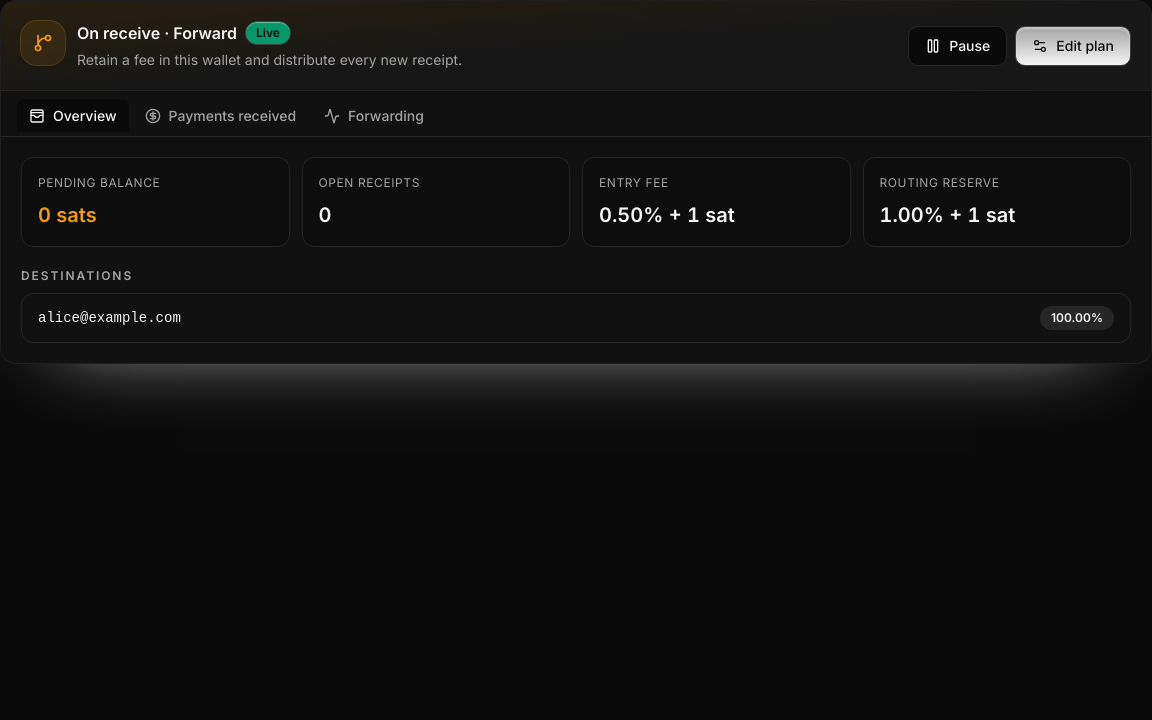
Scenario: RemoteWalletForwardingPanel › shows decoded zap request and receipt JSON in receipt tabs
Click the tab "Payments received": (220,116) [132, 99, 308, 132]
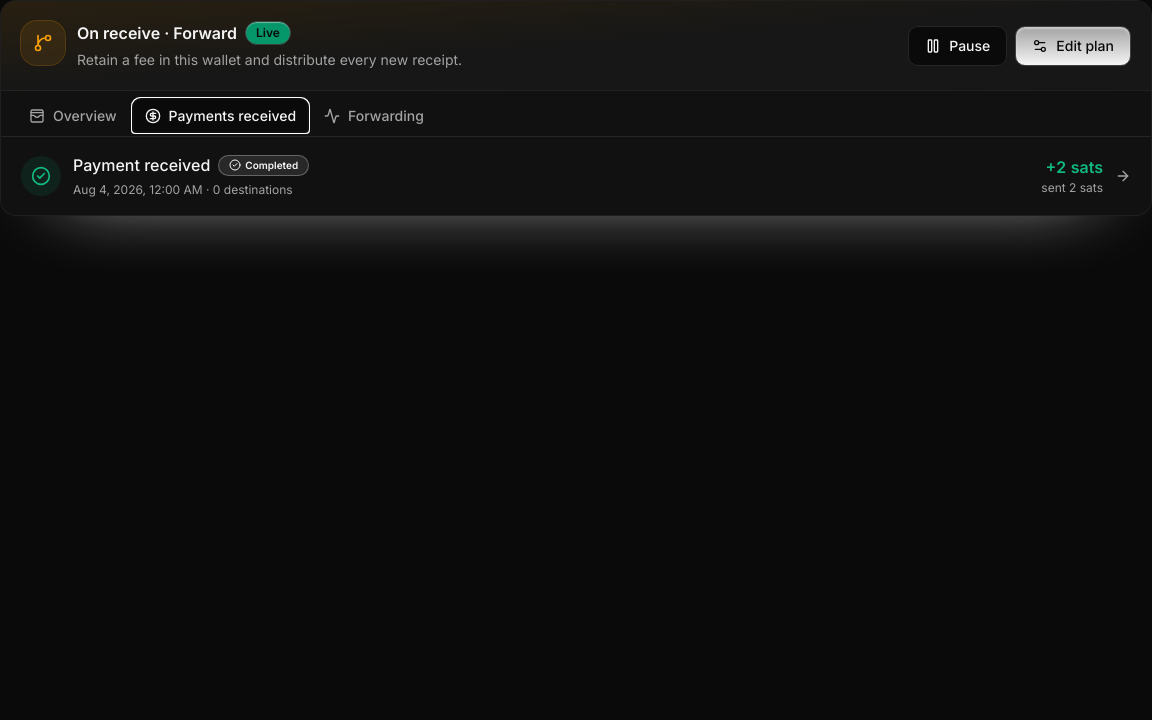
Click the text "Payment received": (142,165) [73, 153, 210, 177]
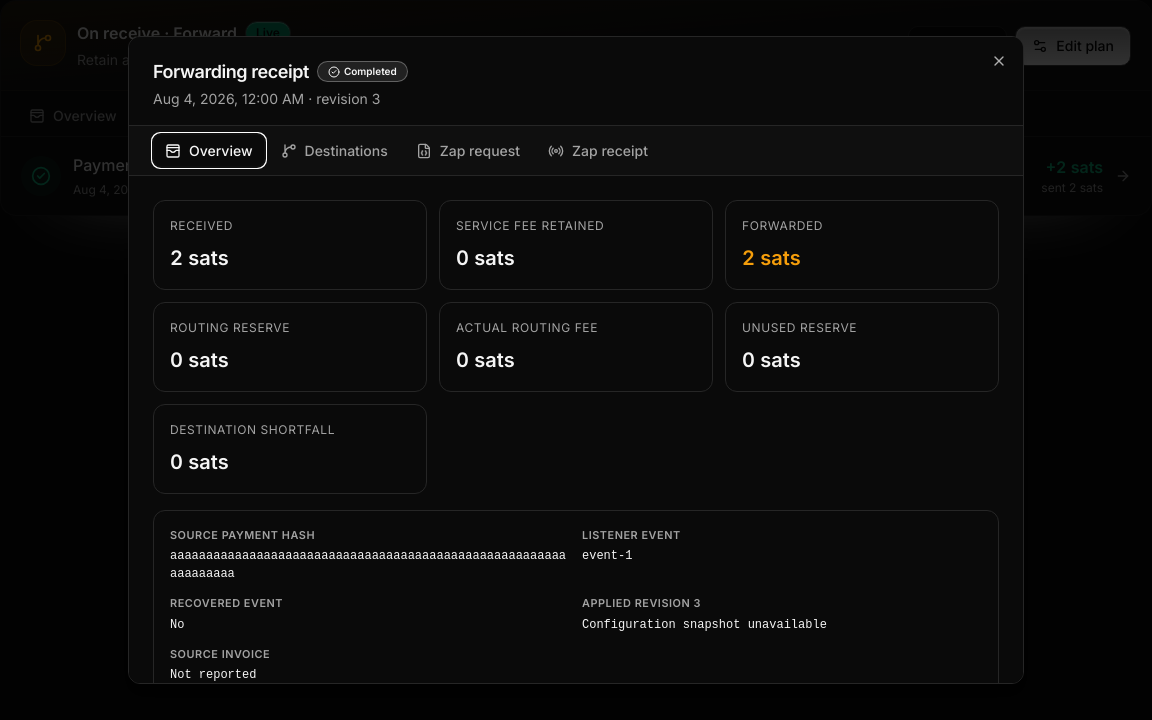
Expected: the tab "Overview" is shown, [153, 134, 264, 167]
Expected: the tab "Destinations" is shown, [268, 134, 400, 167]
Click the tab "Zap request": (468,150) [404, 134, 532, 167]
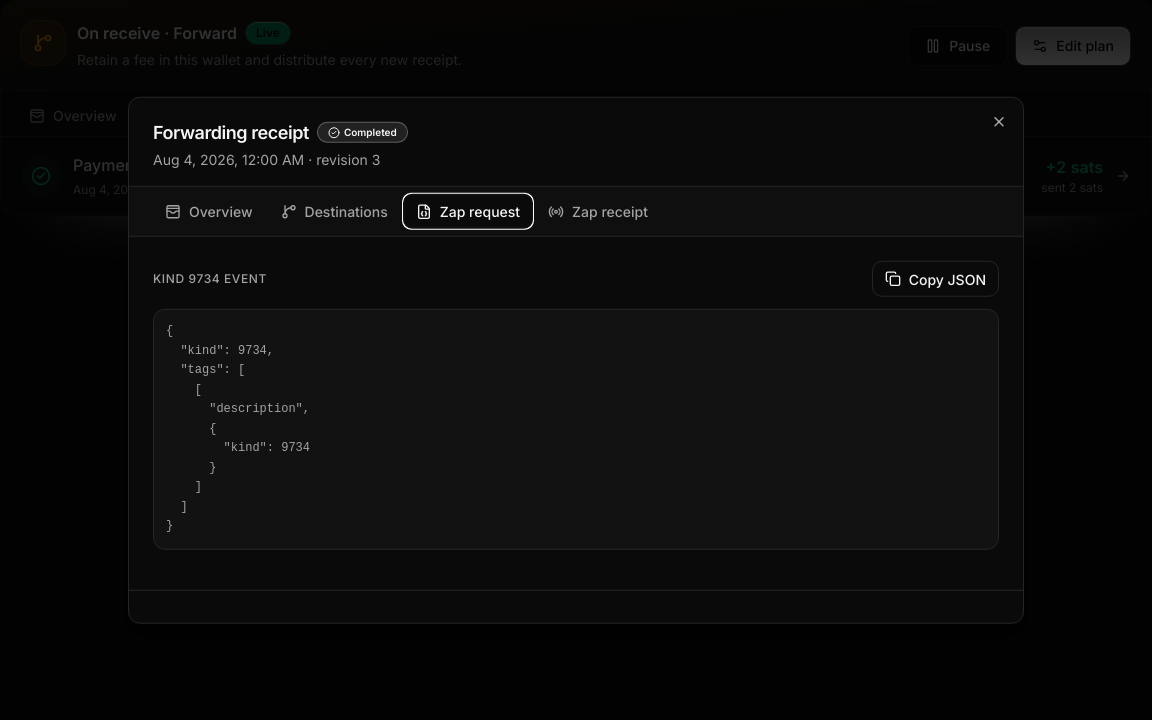
Expected: the text "\\\"kind\\\"" is not shown, [166, 324, 310, 533]
Expected: the text "Kind 9734 event" is shown, [153, 270, 267, 288]
Expected: the text "\"kind\": 9734" is shown, [166, 324, 310, 533]
Click the tab "Zap receipt": (598,211) [536, 195, 660, 228]
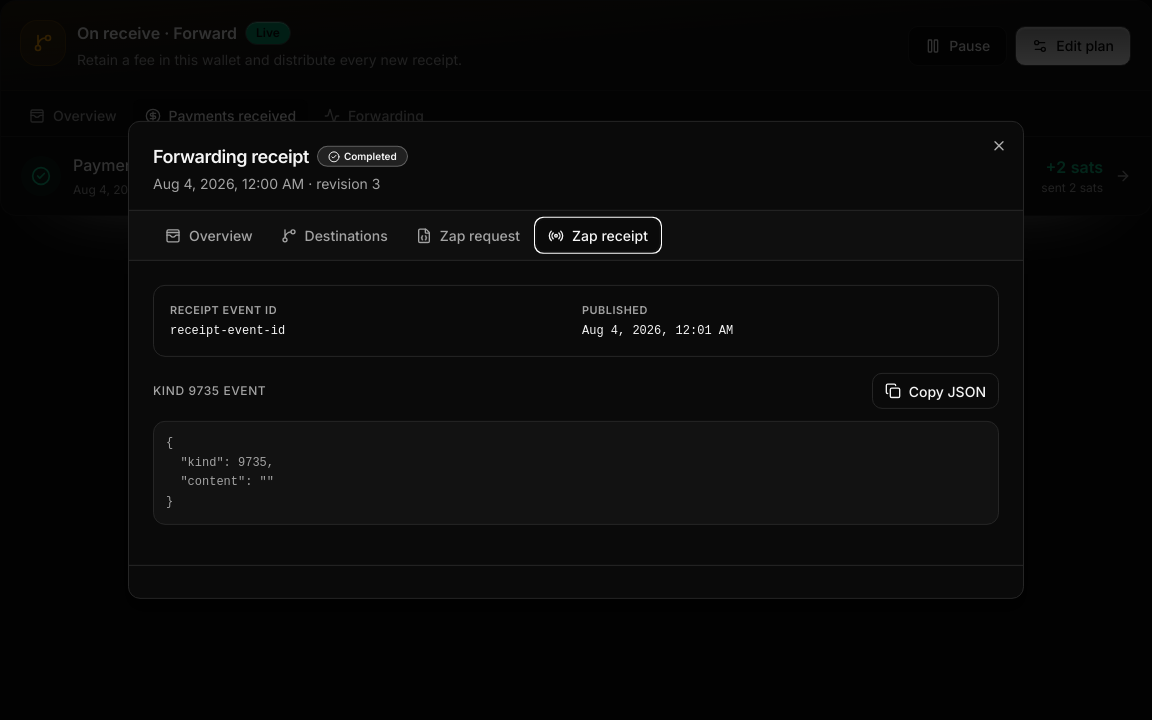
Expected: the text "Kind 9735 event" is shown, [153, 382, 266, 400]
Expected: the text "receipt-event-id" is shown, [170, 324, 285, 338]
